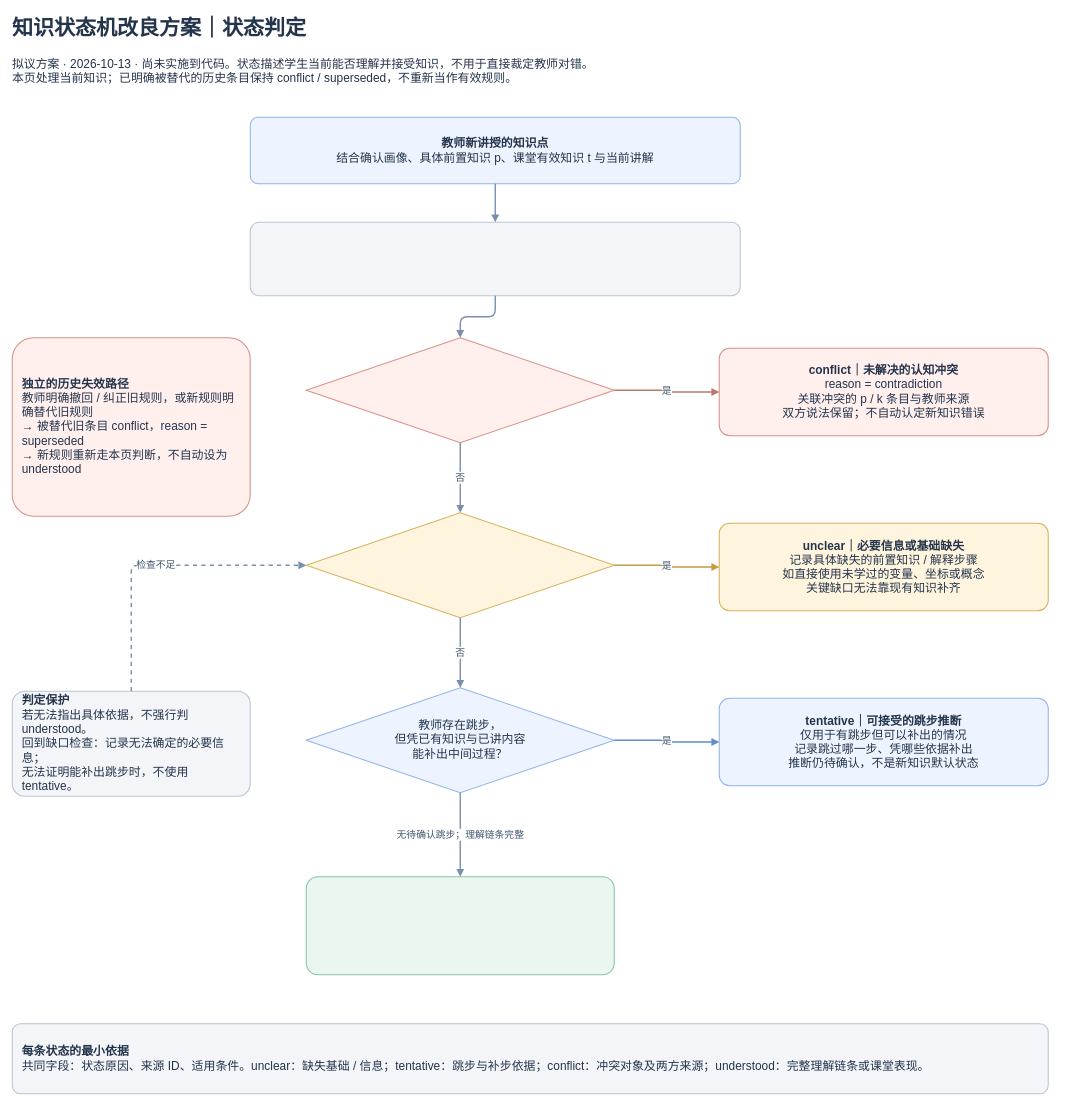
This 1075x1106 diagram has some shape labels left out. Each missing label, with the centre of its shape:
"understood｜当前可推断理解 基础足够，讲解链条完整；可直接进入 或原有缺口已补齐，并表现出理解 仍不代表经验证的稳定掌握" goes at (459,925).
"先识别知识及适用条件 提取必要前置知识、讲解步骤、已有规则与条件 年级只作辅助；不能仅因“小学 + 一次函数”就判定不理解" goes at (494,258).
"在相同适用条件下， 与画像已有知识或课堂知识 存在尚未解决的矛盾？" goes at (459,390).
"缺少必要前置知识， 或讲解跨度超出理解基础， 无法建立理解链条？" goes at (459,565).
